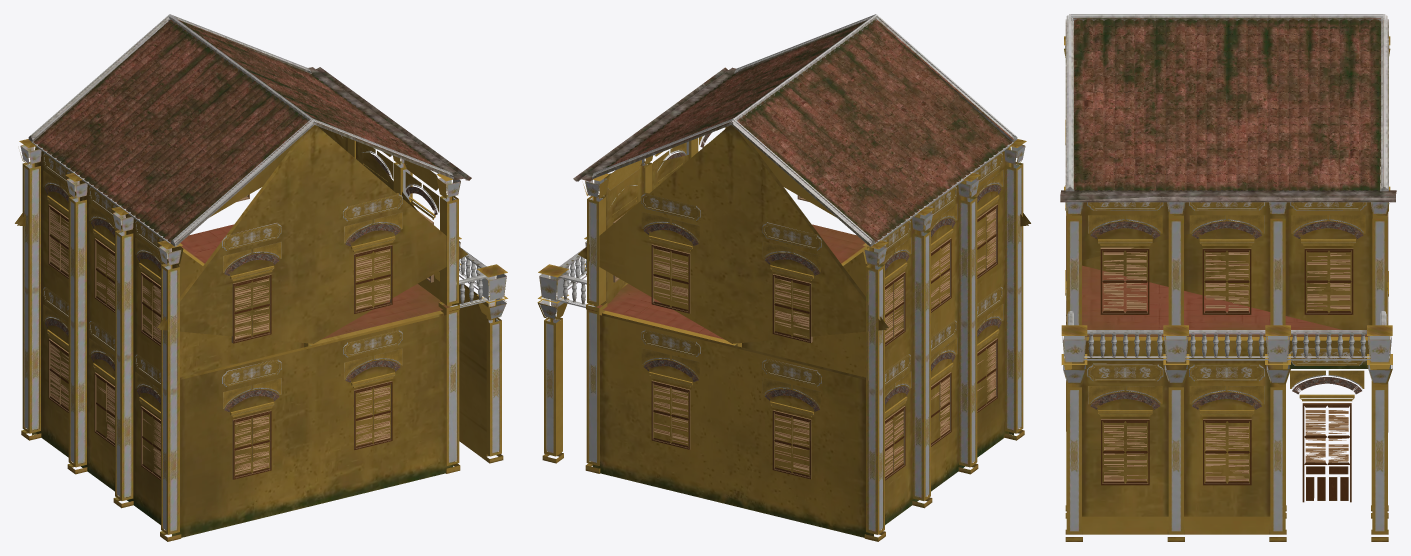
The model's file is house.glb.
3 views of the same model, side by side, from view 1: azimuth 30°, elevation 25°; view 2: azimuth 150°, elevation 25°; view 3: azimuth 270°, elevation 25° (orthographic). The views are drawn at different scales.
Parts seen in each view (by area): view 1: Cube_Tuong_0, Cube.001_phaochi_0, Cylinder.003_mai_0, Cylinder.003_mai_0.001, Cylinder.003_mai_0.003, Cube.002_phaochi_0, Cylinder.003_mai_0.002, Cube.030_cua_0, Cube.029_phaochi_0, Cube.031_phaochi_0, Cube.032_cua_0, Cube.017_phaochi_0 (+8 smaller); view 2: Cube_Tuong_0, Cube.001_phaochi_0, Cylinder.003_mai_0, Cylinder.003_mai_0.001, Cylinder.003_mai_0.003, Cube.002_phaochi_0, Cylinder.003_mai_0.002, Cube.030_cua_0, Cube.031_phaochi_0, Cube.029_phaochi_0, Cube.032_cua_0, Cube.027_phaochi_0 (+8 smaller); view 3: Cube_Tuong_0, Cylinder.003_mai_0.002, Cube.001_phaochi_0, Cylinder.003_mai_0.001, Cylinder.003_mai_0.003, Cube.002_phaochi_0, Cube.008_phaochi_0, Cube.011_cua_0, Cube.005_phaochi_0, Cube.012_cua_0, Cube.006_phaochi_0, Cylinder_phaochi_0 (+2 smaller).
Boxes of the visible parts, bbox=[...] form: Cube_Tuong_0: bbox=[15, 123, 488, 537]; Cube.001_phaochi_0: bbox=[19, 138, 507, 541]; Cylinder.003_mai_0: bbox=[98, 19, 310, 190]; Cylinder.003_mai_0.001: bbox=[63, 41, 402, 218]; Cylinder.003_mai_0.003: bbox=[33, 18, 331, 242]; Cube.002_phaochi_0: bbox=[28, 14, 489, 307]; Cylinder.003_mai_0.002: bbox=[198, 28, 471, 180]; Cube.030_cua_0: bbox=[48, 204, 160, 346]; Cube.029_phaochi_0: bbox=[43, 153, 168, 283]; Cube.031_phaochi_0: bbox=[43, 287, 160, 417]; Cube.032_cua_0: bbox=[48, 338, 160, 480]; Cube.017_phaochi_0: bbox=[221, 223, 281, 281]; Cube_Tuong_0: bbox=[578, 123, 1030, 537]; Cube.001_phaochi_0: bbox=[537, 126, 1026, 541]; Cylinder.003_mai_0: bbox=[737, 19, 955, 184]; Cylinder.003_mai_0.001: bbox=[635, 41, 988, 216]; Cylinder.003_mai_0.003: bbox=[706, 19, 1013, 242]; Cube.002_phaochi_0: bbox=[556, 14, 1017, 307]; Cylinder.003_mai_0.002: bbox=[573, 27, 849, 181]; Cube.030_cua_0: bbox=[885, 204, 997, 346]; Cube.031_phaochi_0: bbox=[885, 287, 1003, 417]; Cube.029_phaochi_0: bbox=[877, 153, 1003, 283]; Cube.032_cua_0: bbox=[885, 338, 997, 480]; Cube.027_phaochi_0: bbox=[762, 222, 822, 280]; Cube_Tuong_0: bbox=[1072, 202, 1372, 534]; Cylinder.003_mai_0.002: bbox=[1060, 42, 1396, 202]; Cube.001_phaochi_0: bbox=[1061, 36, 1392, 541]; Cylinder.003_mai_0.001: bbox=[1074, 83, 1383, 141]; Cylinder.003_mai_0.003: bbox=[1074, 18, 1383, 51]; Cube.002_phaochi_0: bbox=[1065, 14, 1388, 360]; Cube.008_phaochi_0: bbox=[1087, 202, 1366, 245]; Cube.011_cua_0: bbox=[1100, 247, 1353, 314]; Cube.005_phaochi_0: bbox=[1087, 363, 1264, 416]; Cube.012_cua_0: bbox=[1302, 403, 1351, 502]; Cube.006_phaochi_0: bbox=[1289, 348, 1365, 401]; Cylinder_phaochi_0: bbox=[1088, 332, 1365, 357].
Bounding box in the file's own units: 11.08 × 11.8 × 8.44.
Materials: 4 (4 with a texture image).
